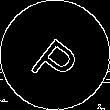P_NE: (25, 23, 85, 87)
